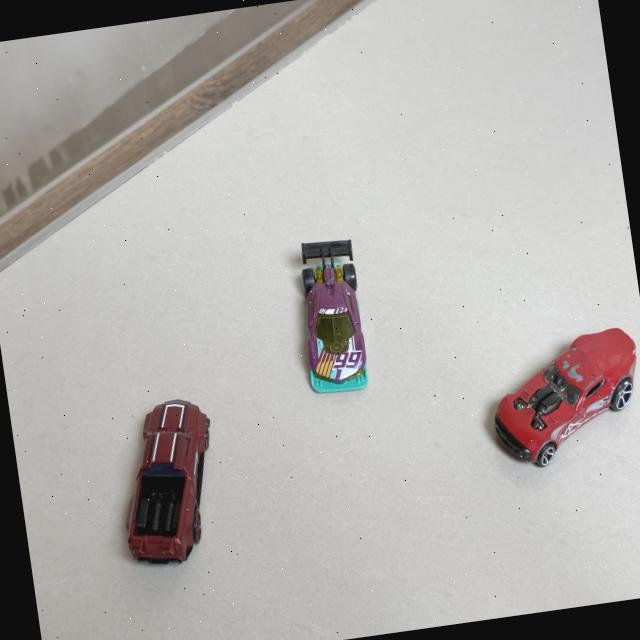cars: (495, 328, 636, 466), (126, 400, 210, 563), (302, 240, 368, 392)
